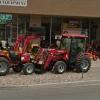Tractor: (21, 26, 99, 78)
